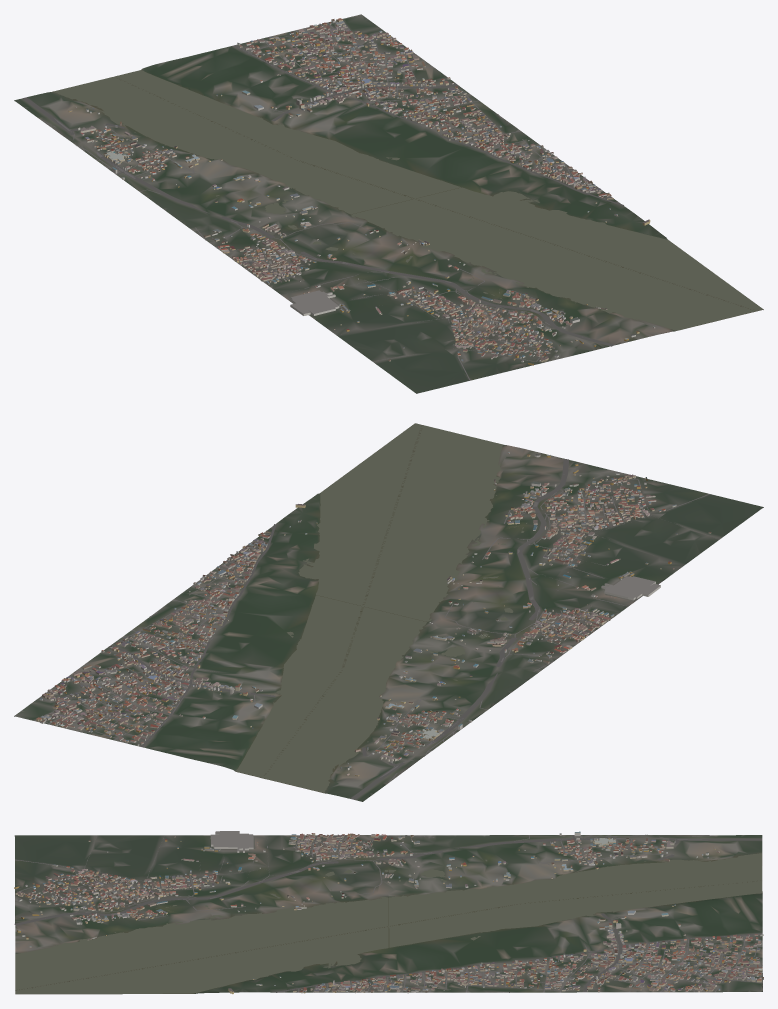
The picture shows the model from 3 angles, top to bottom: view 1: azimuth 30°, elevation 25°; view 2: azimuth 150°, elevation 25°; view 3: azimuth 270°, elevation 25°; orthographic projection. The views are drawn at different scales.
Parts seen in each view (by area): view 1: ground, water, buildings, roads; view 2: ground, water, buildings, roads; view 3: ground, water, buildings, roads.
Boxes of the visible parts, <box> form: ground: <box>14,14,763,393</box>; water: <box>53,70,763,330</box>; buildings: <box>68,18,655,365</box>; roads: <box>22,22,623,380</box>; ground: <box>14,425,763,801</box>; water: <box>236,423,526,792</box>; buildings: <box>36,452,711,776</box>; roads: <box>34,459,719,799</box>; ground: <box>14,835,762,994</box>; water: <box>15,853,762,993</box>; buildings: <box>14,831,763,994</box>; roads: <box>14,834,762,992</box>.
Bounding box in the file's own units: 1435 × 29.02 × 2813.
